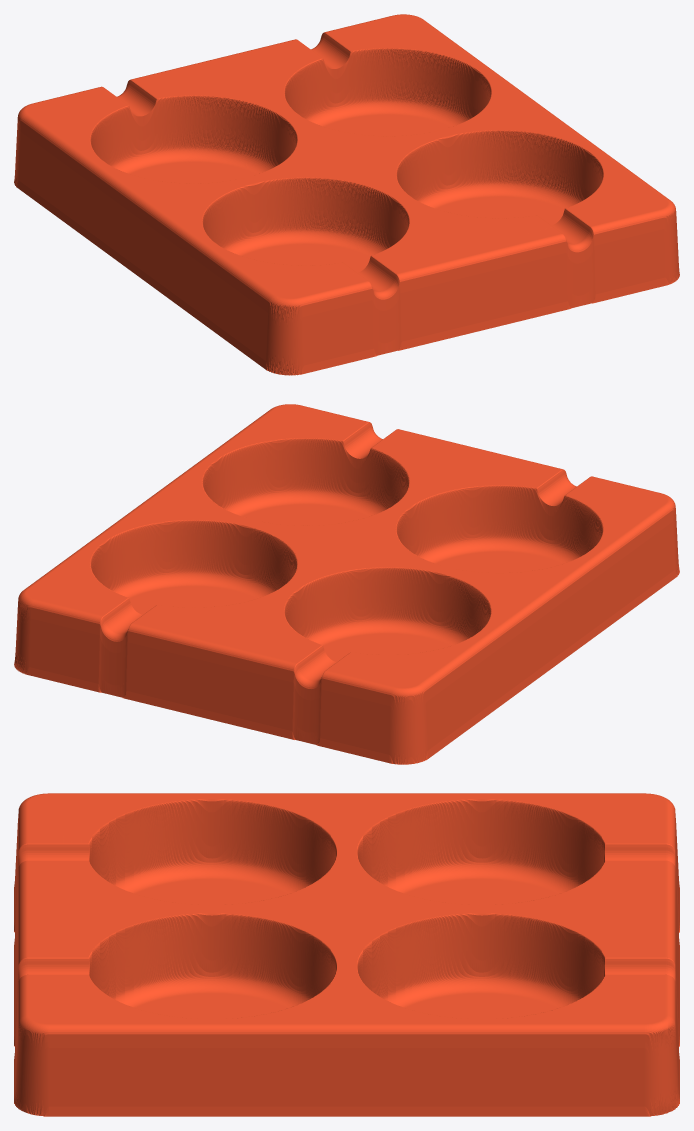
File: mold.glb
The picture shows the model from 3 angles, top to bottom: view 1: azimuth 30°, elevation 25°; view 2: azimuth 150°, elevation 25°; view 3: azimuth 270°, elevation 25°; orthographic projection. The views are drawn at different scales.
Parts seen in each view (by area): view 1: geometry_0; view 2: geometry_0; view 3: geometry_0.
Boxes of the visible parts, box(x1,y1,x2,y2) form: geometry_0: box(14, 14, 679, 375); geometry_0: box(14, 404, 679, 764); geometry_0: box(14, 793, 679, 1116).
Size of the model in its own units: 0.1468 by 0.0245 by 0.171.
